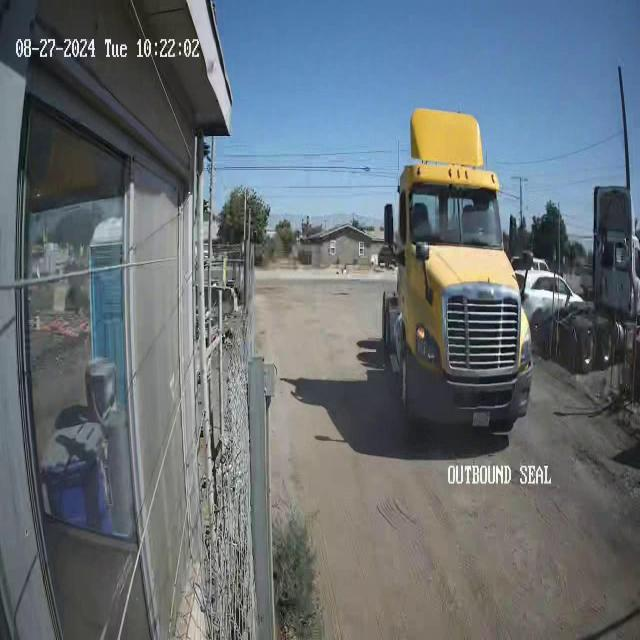TRUCK_IN: (380, 107, 534, 437)
